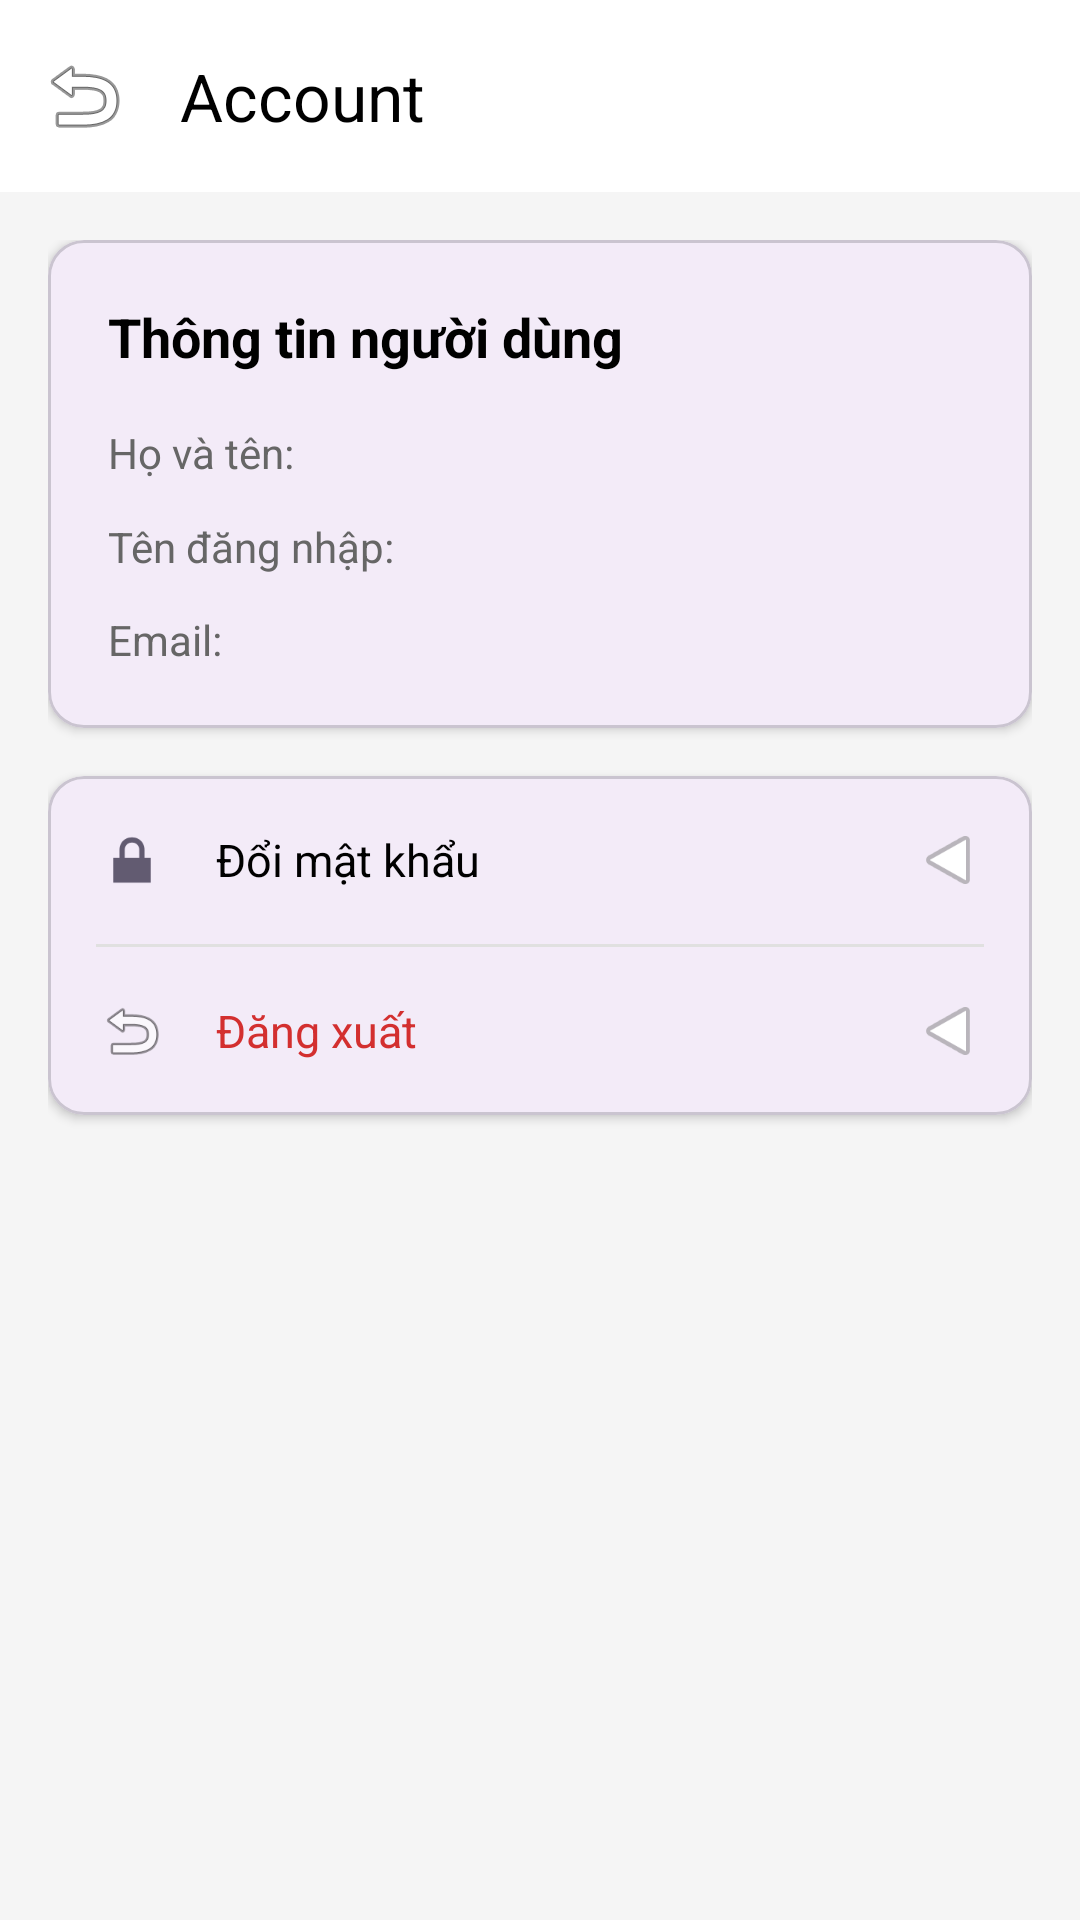

Named icons in this screenshot (1080px×1920px) and their centers, point (x, y):
lock: point (132, 860)
